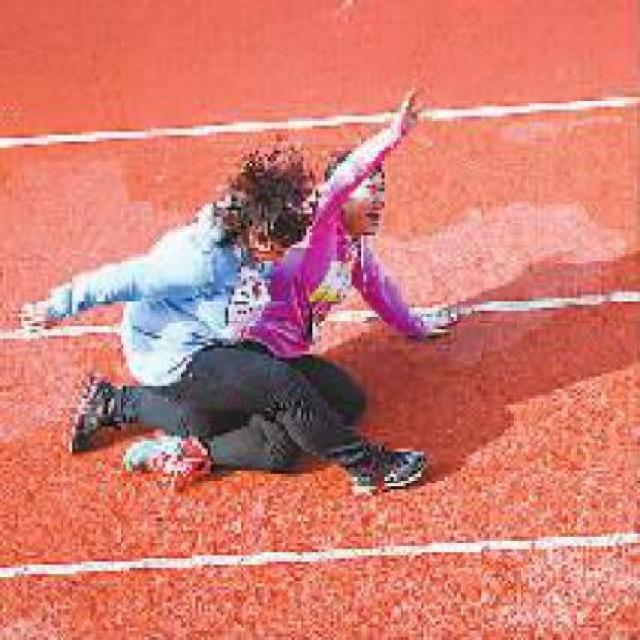fall: (21, 82, 468, 489)
